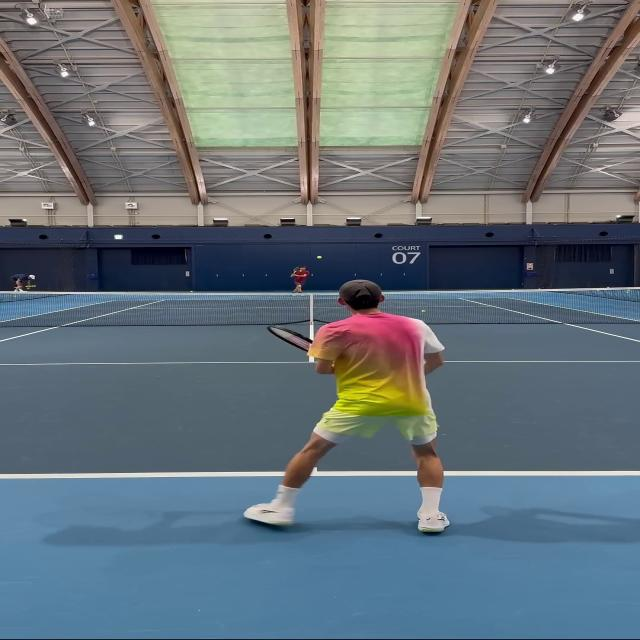tennis_ball: (318, 256, 321, 258)
